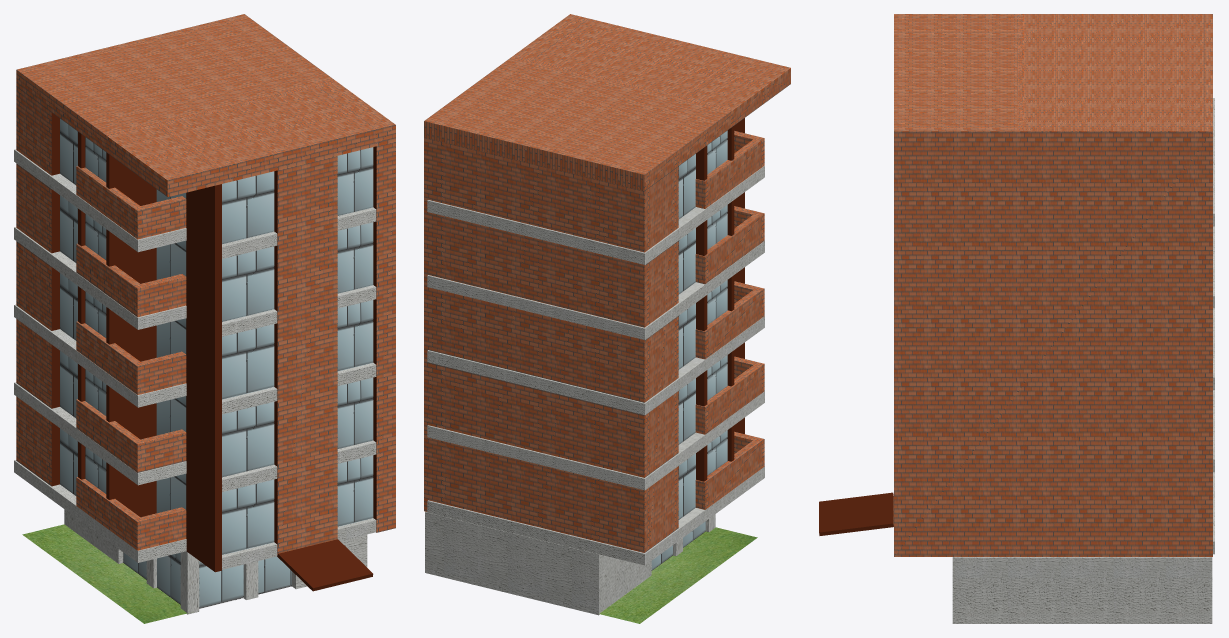
File: departamentos.obj
3 renders of one model, left to right at view 1: azimuth 30°, elevation 25°; view 2: azimuth 150°, elevation 25°; view 3: azimuth 270°, elevation 25°, orthographic. The views are drawn at different scales.
Visible parts, largest first — view 1: mesh.001_Mesh.001; view 2: mesh.001_Mesh.001; view 3: mesh.001_Mesh.001.
Boxes of the visible parts, box(x1,y1,x2,y2) form: mesh.001_Mesh.001: box(14, 14, 395, 623); mesh.001_Mesh.001: box(424, 14, 790, 623); mesh.001_Mesh.001: box(819, 14, 1214, 623).
Bounding box in the file's own units: 11.37 × 22.12 × 16.1.
